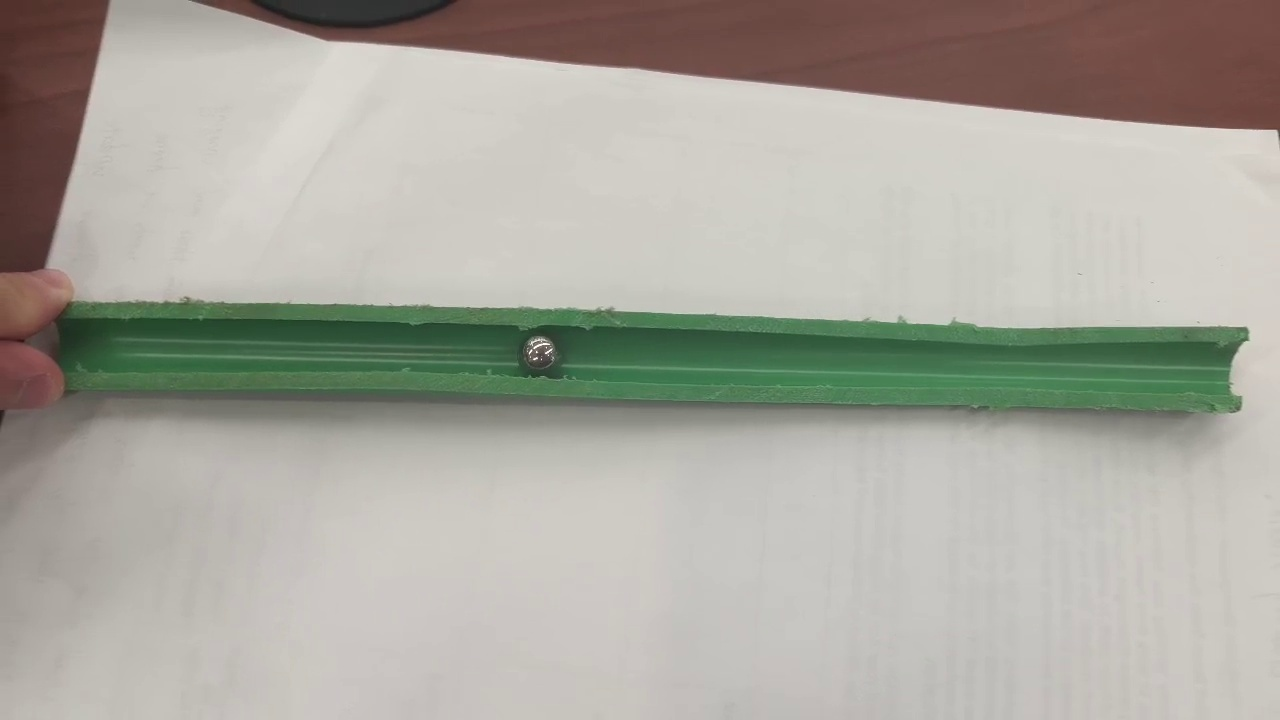ball: (523, 336, 557, 369)
